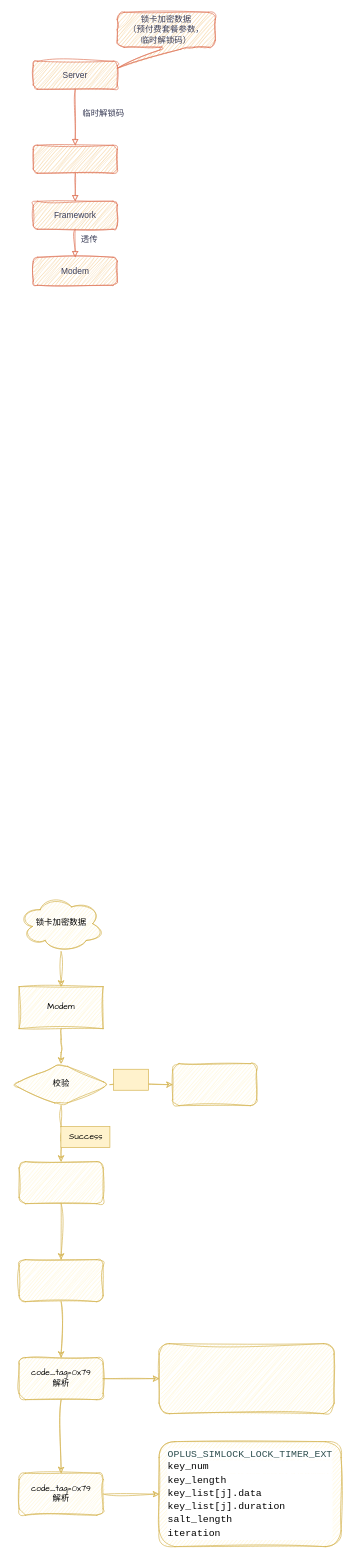
Some shapes in this 354 by 1559 pixel diagram are drawn without their labels. The centre of each missing label's shape, as x and y in pixels:
"APK" goes at point 75,159.
"Failed" goes at point 131,1079.
"OPLUS_SIMLOCK_LOCK_TIMER mode expire_time remind_count server_timestamp" goes at point 246,1378.
"解析" goes at point 60,1280.
"返回SPRMSLDATA:-1" goes at point 214,1084.
"返回SPRMSLDATA:0" goes at point 60,1182.
